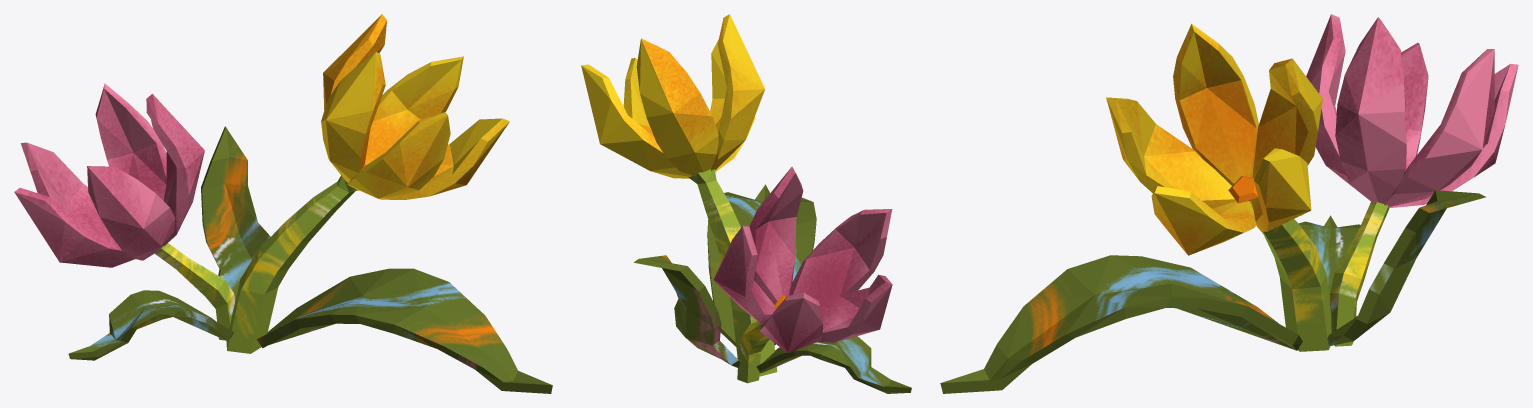
Rendered from FLOR01.fbx.
The picture shows the model from 3 angles, left to right: view 1: azimuth 30°, elevation 25°; view 2: azimuth 150°, elevation 25°; view 3: azimuth 270°, elevation 25°; orthographic projection. The views are drawn at different scales.
Visible parts, largest first — view 1: flower_1.002, flower_1.005, flower_1.013, flower_1.016, flower_1.015; view 2: flower_1.005, flower_1.013, flower_1.002, flower_1.016, flower_1.015; view 3: flower_1.013, flower_1.005, flower_1.002, flower_1.016, flower_1.015, flower_1.014.
Part boxes in pixels (<box>): flower_1.002: <box>68,126,552,393</box>; flower_1.005: <box>14,83,204,267</box>; flower_1.013: <box>321,14,509,199</box>; flower_1.016: <box>226,175,358,353</box>; flower_1.015: <box>155,243,235,340</box>; flower_1.005: <box>713,166,892,353</box>; flower_1.013: <box>581,14,765,178</box>; flower_1.002: <box>634,184,911,393</box>; flower_1.016: <box>688,169,777,376</box>; flower_1.015: <box>737,321,769,383</box>; flower_1.013: <box>1106,23,1322,255</box>; flower_1.005: <box>1306,14,1518,208</box>; flower_1.002: <box>940,190,1486,393</box>; flower_1.016: <box>1262,219,1331,351</box>; flower_1.015: <box>1330,201,1389,346</box>; flower_1.014: <box>1228,175,1257,203</box>.
Bounding box in the file's own units: 175 × 134 × 193.
